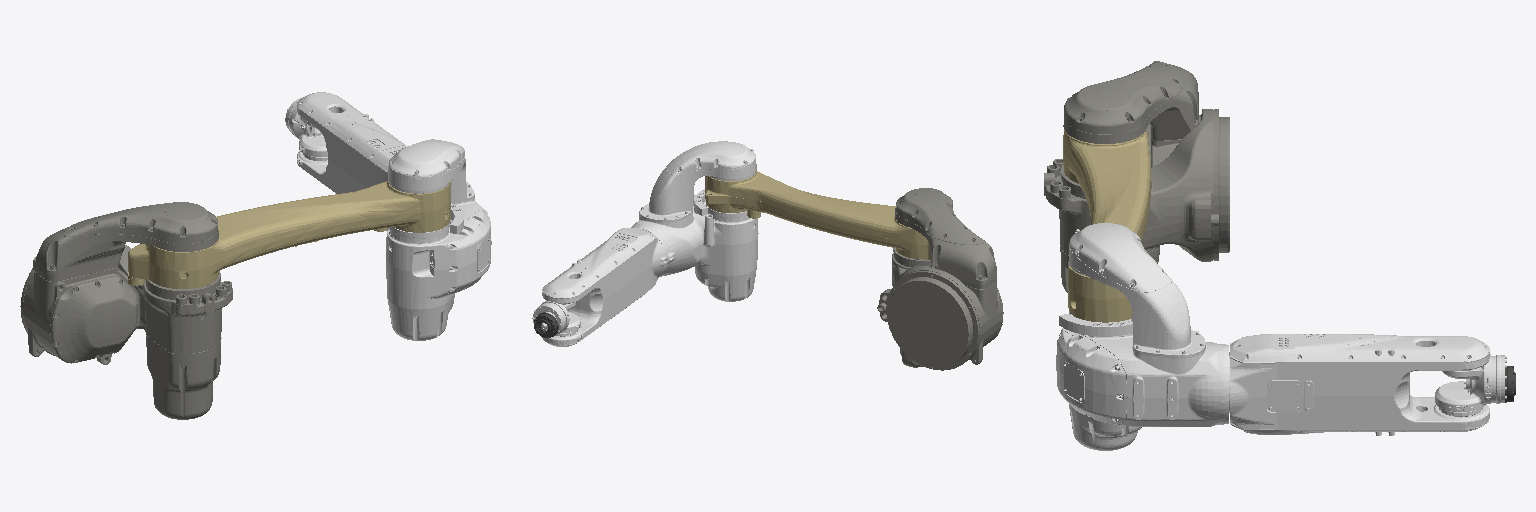
The robot description file, URDF, robot "MZ12H":
<?xml version="1.0" encoding="utf-8"?>
<!-- This URDF was automatically created by SolidWorks to URDF Exporter! Originally created by Stephen Brawner (brawner@gmail.com) 
     Commit Version: 1.6.0-4-g7f85cfe  Build Version: 1.6.7995.38578
     For more information, please see http://wiki.ros.org/sw_urdf_exporter -->
<robot
  name="MZ12H">
  <link
    name="base">
    <inertial>
      <origin
        xyz="-0.0469790502266166 1.61834773302917E-06 0.123035789960527"
        rpy="0 0 0" />
      <mass
        value="16.7192241189448" />
      <inertia
        ixx="0.140582859202792"
        ixy="2.8303747219207E-05"
        ixz="-0.00984495187263392"
        iyy="0.224200184464544"
        iyz="0.000101149097526627"
        izz="0.237777320074336" />
    </inertial>
    <visual>
      <origin
        xyz="0 0 0"
        rpy="0 0 0" />
      <geometry>
        <mesh
          filename="package://MZ12H/meshes/base.STL" />
      </geometry>
      <material
        name="">
        <color
          rgba="0.341176470588235 0.345098039215686 0.333333333333333 1" />
      </material>
    </visual>
    <collision>
      <origin
        xyz="0 0 0"
        rpy="0 0 0" />
      <geometry>
        <mesh
          filename="package://MZ12H/meshes/base.STL" />
      </geometry>
    </collision>
  </link>
  <link
    name="link1">
    <inertial>
      <origin
        xyz="0.061362641945623 0.0188721945431137 0.1528702291428"
        rpy="0 0 0" />
      <mass
        value="20.917144981739" />
      <inertia
        ixx="0.110126455558526"
        ixy="-0.00473763803969965"
        ixz="-0.0529538449994226"
        iyy="0.226254967676381"
        iyz="-0.00495067862074337"
        izz="0.172122244083775" />
    </inertial>
    <visual>
      <origin
        xyz="0 0 0"
        rpy="0 0 0" />
      <geometry>
        <mesh
          filename="package://MZ12H/meshes/link1.STL" />
      </geometry>
      <material
        name="">
        <color
          rgba="0.576470588235294 0.572549019607843 0.549019607843137 1" />
      </material>
    </visual>
    <collision>
      <origin
        xyz="0 0 0"
        rpy="0 0 0" />
      <geometry>
        <mesh
          filename="package://MZ12H/meshes/link1.STL" />
      </geometry>
    </collision>
  </link>
  <joint
    name="j1"
    type="revolute">
    <origin
      xyz="0 -0.231 0"
      rpy="1.5708 0 0" />
    <parent
      link="base" />
    <child
      link="link1" />
    <axis
      xyz="0 0 1" />
    <limit
      lower="-2.9671"
      upper="2.9671"
      effort="0"
      velocity="0" />
  </joint>
  <link
    name="link1_logo">
    <inertial>
      <origin
        xyz="0.150312949862148 0.258875315941585 0.239098281728793"
        rpy="0 0 0" />
      <mass
        value="0.000262575877525974" />
      <inertia
        ixx="7.44374975303121E-09"
        ixy="8.64546589651829E-10"
        ixz="2.5070148174387E-09"
        iyy="2.07301578748147E-08"
        iyz="-8.61202719764037E-11"
        izz="1.38381186463404E-08" />
    </inertial>
    <visual>
      <origin
        xyz="0 0 0"
        rpy="0 0 0" />
      <geometry>
        <mesh
          filename="package://MZ12H/meshes/link1_logo.STL" />
      </geometry>
      <material
        name="">
        <color
          rgba="0.870588235294118 0.0392156862745098 0.0470588235294118 1" />
      </material>
    </visual>
    <collision>
      <origin
        xyz="0 0 0"
        rpy="0 0 0" />
      <geometry>
        <mesh
          filename="package://MZ12H/meshes/link1_logo.STL" />
      </geometry>
    </collision>
  </link>
  <joint
    name="j1_logo"
    type="fixed">
    <origin
      xyz="0 0 0"
      rpy="0 0 0" />
    <parent
      link="link1" />
    <child
      link="link1_logo" />
    <axis
      xyz="0 0 0" />
  </joint>
  <link
    name="link2">
    <inertial>
      <origin
        xyz="0.0623980668810355 -0.0116889295122176 0.276058554088653"
        rpy="0 0 0" />
      <mass
        value="7.26567570560942" />
      <inertia
        ixx="0.41814900197934"
        ixy="5.03439469071894E-05"
        ixz="0.00251520027010451"
        iyy="0.41205973651669"
        iyz="-0.00381643089645996"
        izz="0.014204778363328" />
    </inertial>
    <visual>
      <origin
        xyz="0 0 0"
        rpy="0 0 0" />
      <geometry>
        <mesh
          filename="package://MZ12H/meshes/link2.STL" />
      </geometry>
      <material
        name="">
        <color
          rgba="0.749019607843137 0.701960784313725 0.541176470588235 1" />
      </material>
    </visual>
    <collision>
      <origin
        xyz="0 0 0"
        rpy="0 0 0" />
      <geometry>
        <mesh
          filename="package://MZ12H/meshes/link2.STL" />
      </geometry>
    </collision>
  </link>
  <joint
    name="j2"
    type="revolute">
    <origin
      xyz="0.15 0.0815 0.239"
      rpy="1.5708 0 1.5708" />
    <parent
      link="link1" />
    <child
      link="link2" />
    <axis
      xyz="-1 0 0" />
    <limit
      lower="-1.2217"
      upper="3.1416"
      effort="0"
      velocity="0" />
  </joint>
  <link
    name="link3">
    <inertial>
      <origin
        xyz="0.0528255109301951 -0.0609408330348792 0.070937222836457"
        rpy="0 0 0" />
      <mass
        value="13.4942572400188" />
      <inertia
        ixx="0.109793761656088"
        ixy="-0.00630439083047505"
        ixz="-0.0402872681950476"
        iyy="0.146488764223456"
        iyz="-0.0094390587394072"
        izz="0.127674409063867" />
    </inertial>
    <visual>
      <origin
        xyz="0 0 0"
        rpy="0 0 0" />
      <geometry>
        <mesh
          filename="package://MZ12H/meshes/link3.STL" />
      </geometry>
      <material
        name="">
        <color
          rgba="0.894117647058823 0.894117647058823 0.894117647058823 1" />
      </material>
    </visual>
    <collision>
      <origin
        xyz="0 0 0"
        rpy="0 0 0" />
      <geometry>
        <mesh
          filename="package://MZ12H/meshes/link3.STL" />
      </geometry>
    </collision>
  </link>
  <joint
    name="j3"
    type="revolute">
    <origin
      xyz="0 0 0.61"
      rpy="0 0 -1.5708" />
    <parent
      link="link2" />
    <child
      link="link3" />
    <axis
      xyz="0 -1 0" />
    <limit
      lower="-1.4486"
      upper="2.0944"
      effort="0"
      velocity="0" />
  </joint>
  <link
    name="link4">
    <inertial>
      <origin
        xyz="0.208608577970119 -0.00033764435114681 0.00016814497274531"
        rpy="0 0 0" />
      <mass
        value="7.60881636541159" />
      <inertia
        ixx="0.0280714934747367"
        ixy="0.000302496142670589"
        ixz="0.000400913813657716"
        iyy="0.128234483518453"
        iyz="-9.96991049592024E-06"
        izz="0.141574719957871" />
    </inertial>
    <visual>
      <origin
        xyz="0 0 0"
        rpy="0 0 0" />
      <geometry>
        <mesh
          filename="package://MZ12H/meshes/link4.STL" />
      </geometry>
      <material
        name="">
        <color
          rgba="0.894117647058823 0.894117647058823 0.894117647058823 1" />
      </material>
    </visual>
    <collision>
      <origin
        xyz="0 0 0"
        rpy="0 0 0" />
      <geometry>
        <mesh
          filename="package://MZ12H/meshes/link4.STL" />
      </geometry>
    </collision>
  </link>
  <joint
    name="j4"
    type="revolute">
    <origin
      xyz="0.23446 -0.0815 0.14"
      rpy="0 0 0" />
    <parent
      link="link3" />
    <child
      link="link4" />
    <axis
      xyz="1 0 0" />
    <limit
      lower="-3.3161"
      upper="3.3161"
      effort="0"
      velocity="0" />
  </joint>
  <link
    name="link4_logo_left">
    <inertial>
      <origin
        xyz="-0.179861974644733 0.0902237021402488 0.000839836063454946"
        rpy="0 0 0" />
      <mass
        value="0.000628941851328052" />
      <inertia
        ixx="4.14048608722576E-08"
        ixy="7.82460067083761E-10"
        ixz="9.94330030072208E-09"
        iyy="1.10193648594019E-07"
        iyz="2.04111380123819E-09"
        izz="6.94400436455165E-08" />
    </inertial>
    <visual>
      <origin
        xyz="0 0 0"
        rpy="0 0 0" />
      <geometry>
        <mesh
          filename="package://MZ12H/meshes/link4_logo_left.STL" />
      </geometry>
      <material
        name="">
        <color
          rgba="0.894117647058823 0.894117647058823 0.894117647058823 1" />
      </material>
    </visual>
    <collision>
      <origin
        xyz="0 0 0"
        rpy="0 0 0" />
      <geometry>
        <mesh
          filename="package://MZ12H/meshes/link4_logo_left.STL" />
      </geometry>
    </collision>
  </link>
  <joint
    name="j4_logo_left"
    type="fixed">
    <origin
      xyz="0.44454 0 0"
      rpy="-2.7775E-05 0 0" />
    <parent
      link="link4" />
    <child
      link="link4_logo_left" />
    <axis
      xyz="0 0 0" />
  </joint>
  <link
    name="link4_logo_right">
    <inertial>
      <origin
        xyz="-0.235925684819358 -0.0103450558813303 0.000168184645688019"
        rpy="0 0 0" />
      <mass
        value="7.60944232108211" />
      <inertia
        ixx="0.0280715340753347"
        ixy="0.000302477128268645"
        ixz="0.000400912987411476"
        iyy="0.128234593628521"
        iyz="-1.03416359801325E-05"
        izz="0.141574787392777" />
    </inertial>
    <visual>
      <origin
        xyz="0 0 0"
        rpy="0 0 0" />
      <geometry>
        <mesh
          filename="package://MZ12H/meshes/link4_logo_right.STL" />
      </geometry>
      <material
        name="">
        <color
          rgba="1 0.0431372549019608 0.0549019607843137 1" />
      </material>
    </visual>
    <collision>
      <origin
        xyz="0 0 0"
        rpy="0 0 0" />
      <geometry>
        <mesh
          filename="package://MZ12H/meshes/link4_logo_right.STL" />
      </geometry>
    </collision>
  </link>
  <joint
    name="j4_logo_right"
    type="fixed">
    <origin
      xyz="0.44454 0.01 0"
      rpy="-2.7775E-05 0 0" />
    <parent
      link="link4" />
    <child
      link="link4_logo_right" />
    <axis
      xyz="0 0 0" />
  </joint>
  <link
    name="link5">
    <inertial>
      <origin
        xyz="0.0301921092694664 -0.0164152505974521 3.07617396660964E-05"
        rpy="0 0 0" />
      <mass
        value="0.560948383901603" />
      <inertia
        ixx="0.000699624483322544"
        ixy="-7.811675248462E-05"
        ixz="-1.31276266178238E-06"
        iyy="0.000654825286022921"
        iyz="-9.59332419456026E-07"
        izz="0.000745996081704956" />
    </inertial>
    <visual>
      <origin
        xyz="0 0 0"
        rpy="0 0 0" />
      <geometry>
        <mesh
          filename="package://MZ12H/meshes/link5.STL" />
      </geometry>
      <material
        name="">
        <color
          rgba="0.894117647058823 0.894117647058823 0.894117647058823 1" />
      </material>
    </visual>
    <collision>
      <origin
        xyz="0 0 0"
        rpy="0 0 0" />
      <geometry>
        <mesh
          filename="package://MZ12H/meshes/link5.STL" />
      </geometry>
    </collision>
  </link>
  <joint
    name="j5"
    type="revolute">
    <origin
      xyz="0.44454 0.01 0"
      rpy="0 0 0" />
    <parent
      link="link4" />
    <child
      link="link5" />
    <axis
      xyz="0 -1 0" />
    <limit
      lower="-2.4435"
      upper="2.4435"
      effort="0"
      velocity="0" />
  </joint>
  <link
    name="link6">
    <inertial>
      <origin
        xyz="0.0109080577638027 -8.00997767906568E-05 8.00879316245062E-05"
        rpy="0 0 0" />
      <mass
        value="0.0439410372876392" />
      <inertia
        ixx="3.16845620199135E-05"
        ixy="2.05386344931066E-08"
        ixz="-2.05307222926037E-08"
        iyy="1.67817077184394E-05"
        iyz="-1.78021705126722E-07"
        izz="1.69014193912987E-05" />
    </inertial>
    <visual>
      <origin
        xyz="0 0 0"
        rpy="0 0 0" />
      <geometry>
        <mesh
          filename="package://MZ12H/meshes/link6.STL" />
      </geometry>
      <material
        name="">
        <color
          rgba="0.341176470588235 0.345098039215686 0.333333333333333 1" />
      </material>
    </visual>
    <collision>
      <origin
        xyz="0 0 0"
        rpy="0 0 0" />
      <geometry>
        <mesh
          filename="package://MZ12H/meshes/link6.STL" />
      </geometry>
    </collision>
  </link>
  <joint
    name="j6"
    type="revolute">
    <origin
      xyz="0.082 -0.01 0"
      rpy="0 0 0" />
    <parent
      link="link5" />
    <child
      link="link6" />
    <axis
      xyz="1 0 0" />
    <limit
      lower="0"
      upper="6.2832"
      effort="0"
      velocity="0" />
  </joint>
</robot>

--- Render facts (derived) ---
Views: 3 orthographic renders of the robot side by side, from view 1: azimuth 30°, elevation 25°; view 2: azimuth 150°, elevation 25°; view 3: azimuth 270°, elevation 25°.
Robot: MZ12H — 10 links, 9 joints (6 revolute, 3 fixed); root link base; default pose: every joint at zero.
Links seen in each view (by area): view 1: link1, link3, link2, link4, link5; view 2: link1, link3, link2, link4, link5; view 3: link3, link4, link1, link2, link5.
Boxes of the visible links, <box> form: link1: <box>20,202,232,419</box>; link3: <box>386,139,491,340</box>; link2: <box>128,181,450,288</box>; link4: <box>297,92,407,193</box>; link5: <box>285,97,327,156</box>; link1: <box>877,188,1003,370</box>; link3: <box>631,141,758,301</box>; link2: <box>705,171,930,259</box>; link4: <box>542,228,666,346</box>; link5: <box>532,301,580,335</box>; link3: <box>1056,223,1229,450</box>; link4: <box>1230,334,1489,435</box>; link1: <box>1044,61,1229,292</box>; link2: <box>1063,129,1150,322</box>; link5: <box>1435,354,1506,411</box>.
Size in the robot's own frame: 1.12 by 0.899 by 0.5011 metres.
6 mesh visuals loaded from 10 distinct referenced files (6 binary STL); not drawn: 4 (reference not matched to a file when rendering).
